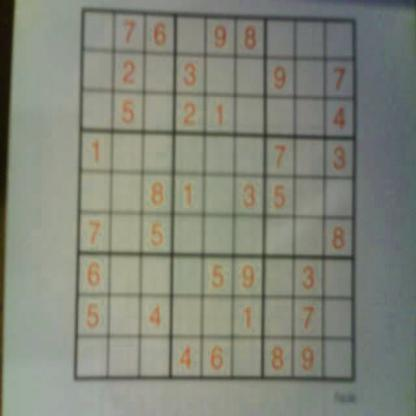sudoku: (71, 3, 361, 385)
